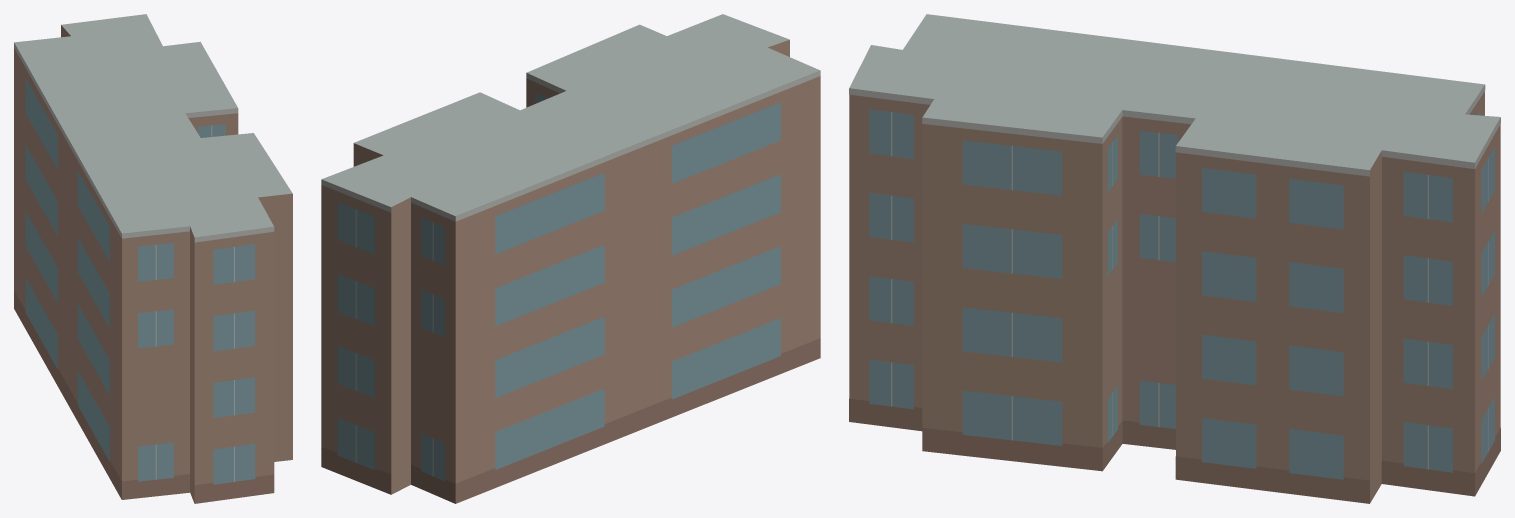
File: survey-upis-32872010.glb
3 renders of one model, left to right at view 1: azimuth 30°, elevation 25°; view 2: azimuth 150°, elevation 25°; view 3: azimuth 270°, elevation 25°, orthographic. The views are drawn at different scales.
Visible parts, largest first — view 1: survey-upis-32872010.tmp; view 2: survey-upis-32872010.tmp; view 3: survey-upis-32872010.tmp.
Part boxes in pixels (box(x1,y1,x2,y2)): survey-upis-32872010.tmp: box(14, 14, 292, 503); survey-upis-32872010.tmp: box(321, 14, 820, 503); survey-upis-32872010.tmp: box(849, 14, 1500, 503).
Size of the model in its own units: 12.86 by 12.8 by 22.67.
